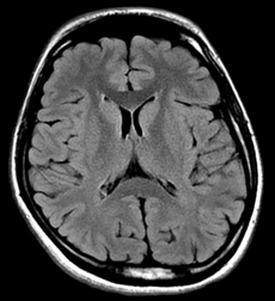Normal_Brain: (1, 1, 275, 301)
